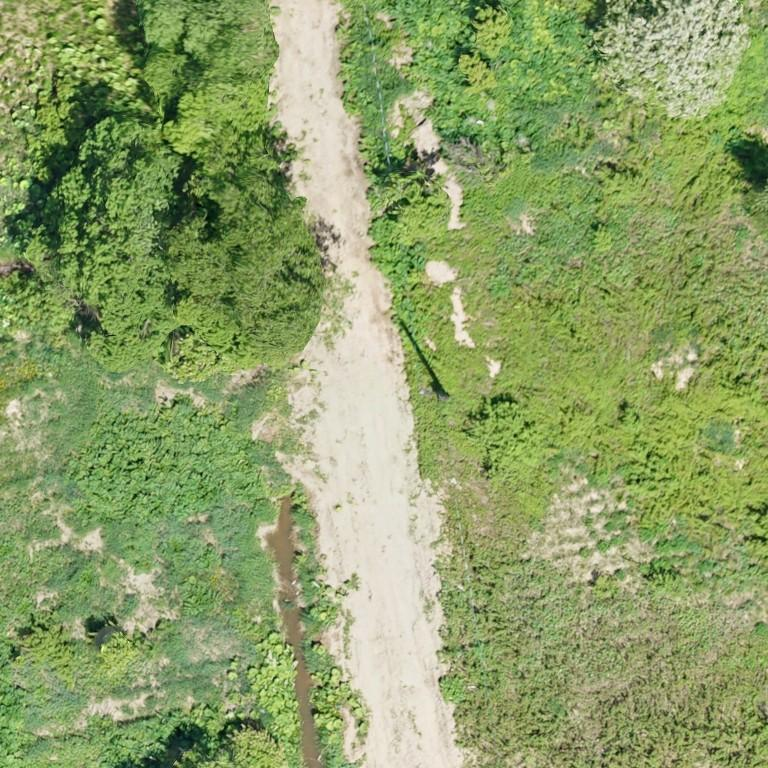hogweed: (65, 394, 275, 524), (379, 0, 485, 138), (500, 0, 598, 107), (368, 216, 426, 282), (180, 580, 222, 617)
